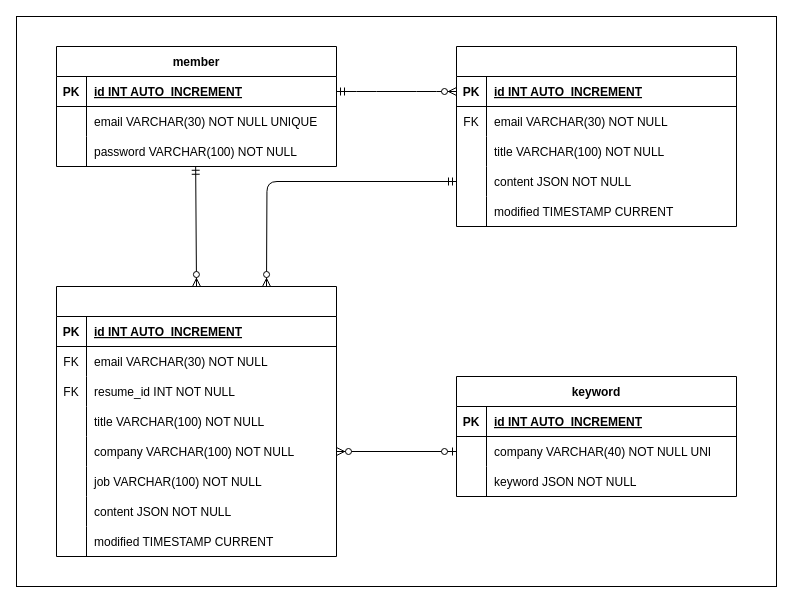
This 793x603 diagram has some shape labels left out. Each missing label, with the box of its shape:
letter: (56, 286, 336, 556)
resume: (456, 46, 736, 226)
